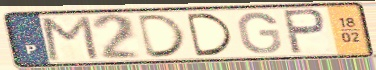2: (90, 13, 146, 62)
D: (136, 13, 191, 60), (183, 12, 236, 58)
G: (235, 11, 284, 56)
M: (40, 14, 101, 62)
P: (279, 7, 329, 56)
